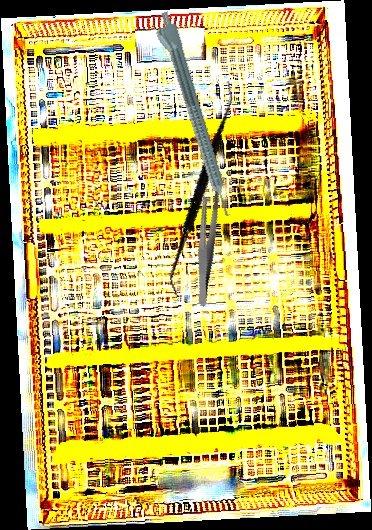Dressing Forceps: (168, 185, 245, 308)
Handpiece: (148, 9, 235, 222)
Spatula Surgical: (124, 80, 282, 298)
